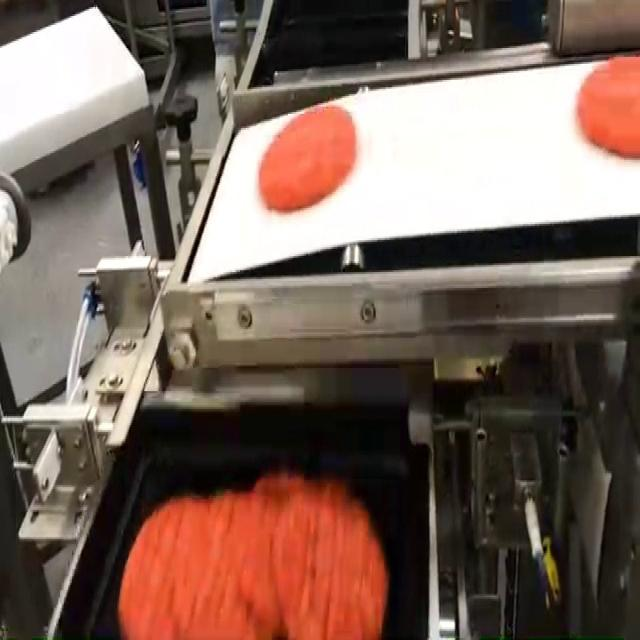4-hamburguer: (118, 473, 388, 638)
hamburguer: (258, 107, 356, 208)
